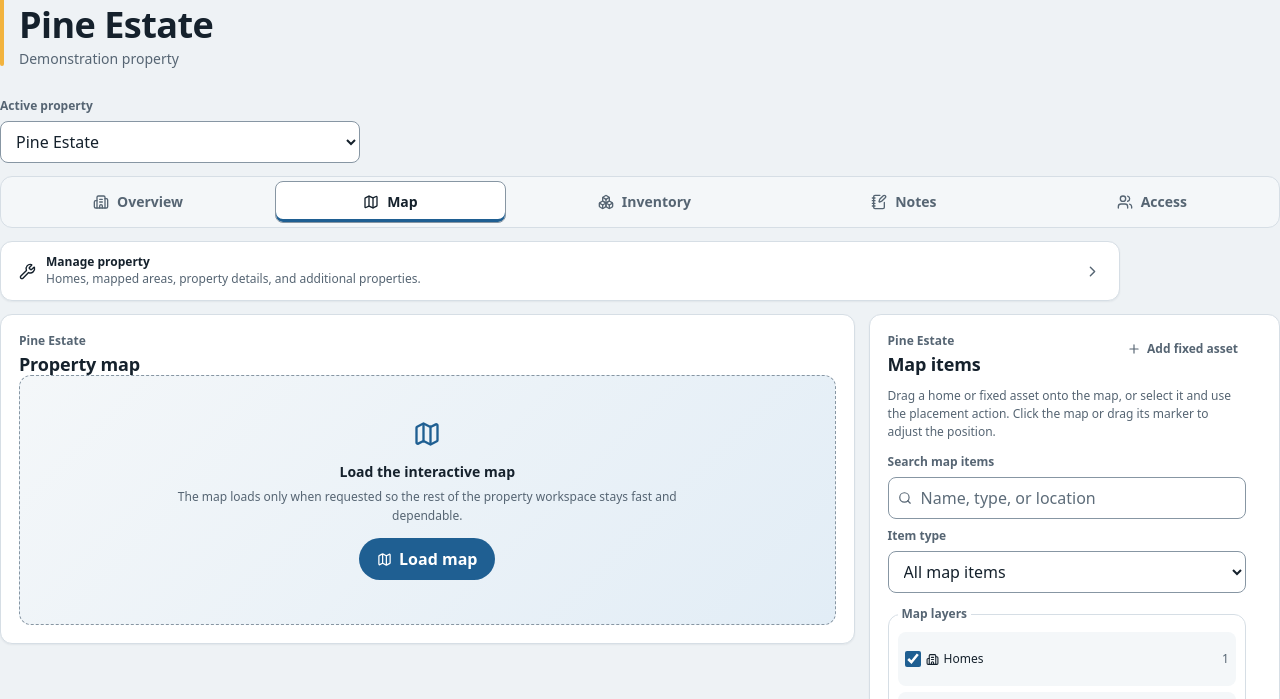
Test: PropertyManagementPage › keeps large map item collections searchable and incrementally rendered
Type "Fixed asset 074" into the search field labelled "Search map items".
click(1067, 498); type("Fixed asset 074")  # box [888, 477, 1246, 519]
(page scrolled)
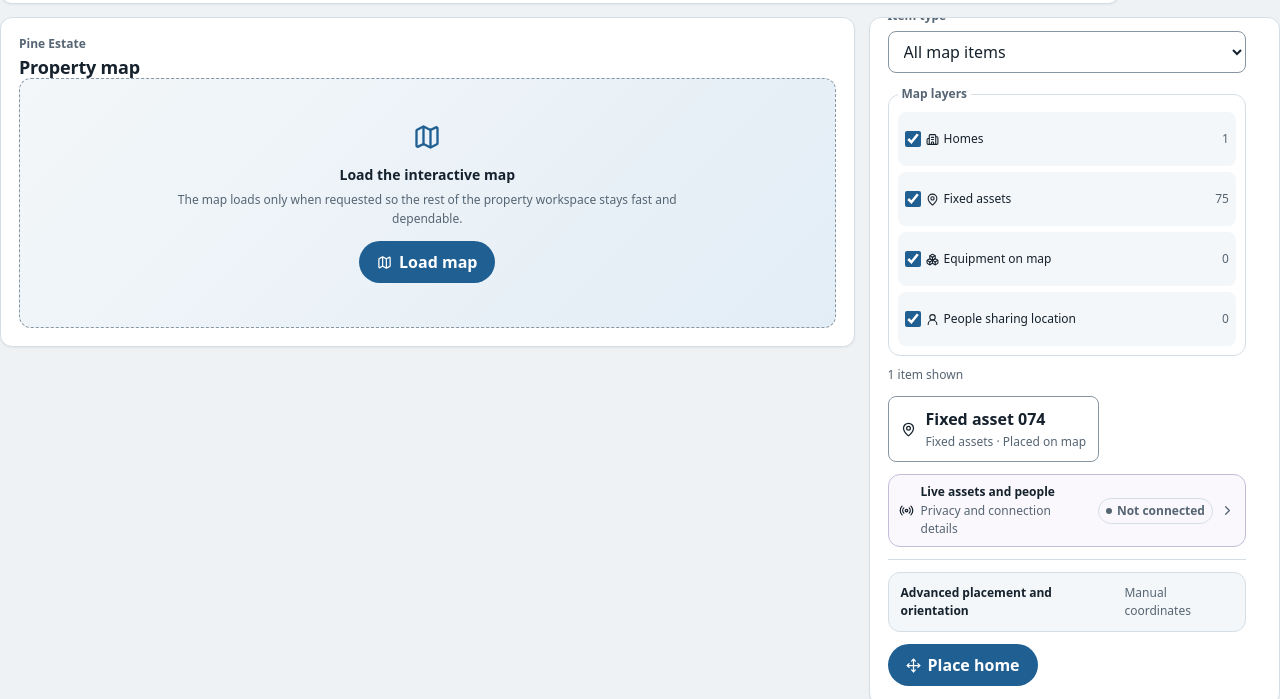
Now the text "Fixed asset 074" is shown, box [926, 408, 1045, 430]
Now the number of list items is 1, box [888, 396, 1099, 462]
